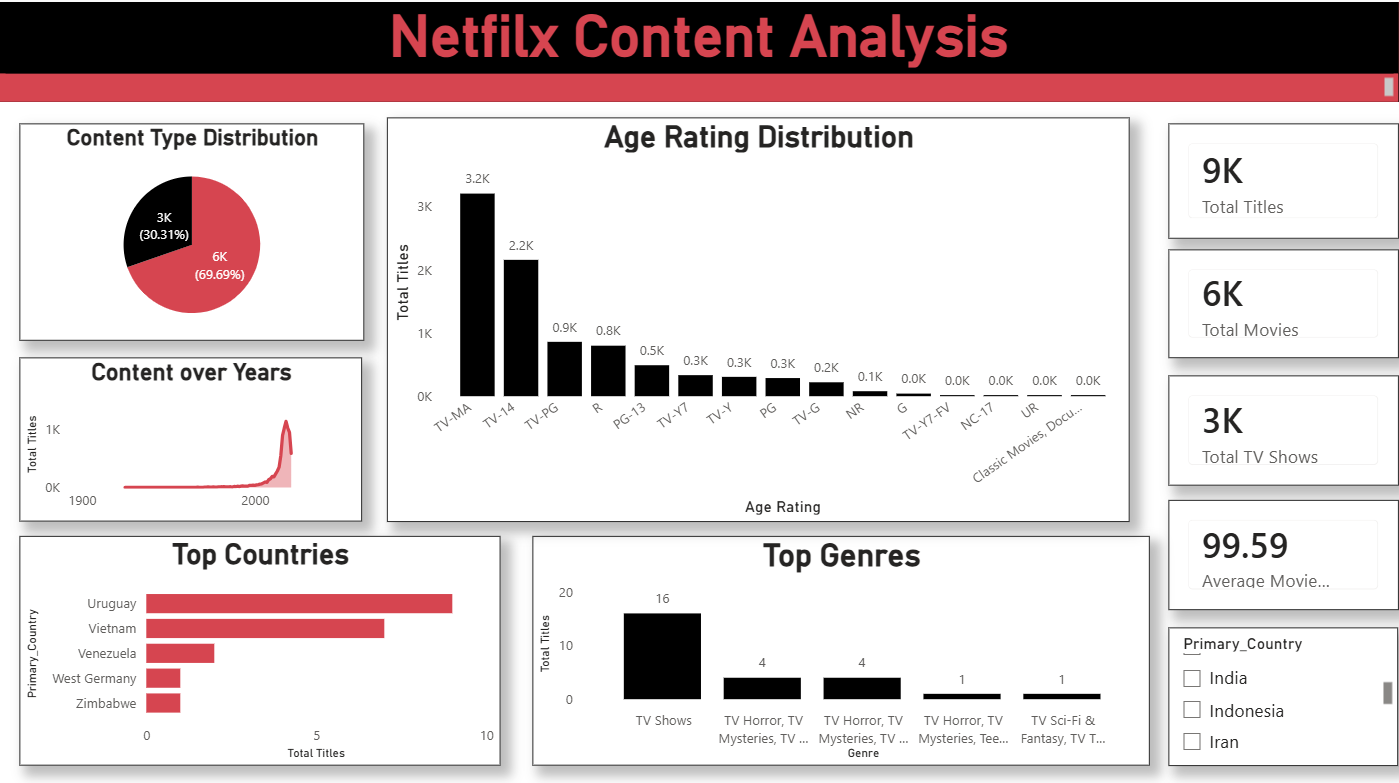

Layout of this report page (visuals, bound fields, positions):
{"tool":"powerbi","page":{"name":"Page 1","canvas":[1280,720],"ordinal":0},"visuals":[{"type":"cardVisual","title":"Total Titles","fields":{"Data":["netflix1.Total Titles"]},"box":[1068.6,111.7,210.9,105.5],"z":0},{"type":"cardVisual","title":"Total Movies","fields":{"Data":["netflix1.Total Movies"]},"box":[1068.6,226.4,210.9,99.3],"z":1000},{"type":"cardVisual","fields":{"Data":["netflix1.Total TV Shows"]},"box":[1068.6,341.2,210.9,100.8],"z":2000},{"type":"cardVisual","fields":{"Data":["netflix1.Average Movie Duration"]},"box":[1068.6,456,210.9,100.8],"z":3000},{"type":"pieChart","title":"Content Type Distribution","fields":{"Y":["netflix1.Total Titles"],"Category":["netflix1.Content Type"]},"box":[17.5,111,315.5,198.6],"z":4000},{"type":"lineChart","title":"Content over Years","fields":{"Y":["netflix1.Total Titles"],"Category":["netflix1.Release Year"]},"box":[17.5,325.2,313.5,149.9],"z":5000},{"type":"columnChart","title":"Top Genres","fields":{"Category":["netflix1.Genre"],"Y":["netflix1.Total Titles"]},"box":[486.8,488.8,564.7,210.3],"z":7000},{"type":"clusteredColumnChart","title":"Age Rating Distribution","fields":{"Category":["netflix1.Age Rating"],"Y":["netflix1.Total Titles"]},"box":[354.4,105.2,679.6,370],"z":8000},{"type":"slicer","fields":{"Values":["netflix1.Primary_Country"]},"box":[1069,572.5,210.3,126.6],"z":9000},{"type":"textbox","title":"Netfilx Content Analysis","box":[0,0,1279.4,91.5],"z":9001},{"type":"clusteredBarChart","title":"Top Countries","fields":{"Y":["netflix1.Total Titles"],"Category":["netflix1.Primary_Country"]},"box":[17.5,488.8,440.1,210.3],"z":9002}]}

Visuals, with their boxes in screenshot pixels (x1, y1, x2, y2), scaled from the page's 1280x720 canvas onto the 1399x783 screenshot:
"Total Titles" cardVisual: detection(1168, 121, 1398, 236)
"Total Movies" cardVisual: detection(1168, 246, 1398, 354)
cardVisual - netflix1.Total TV Shows: detection(1168, 371, 1398, 481)
cardVisual - netflix1.Average Movie Duration: detection(1168, 496, 1398, 606)
"Content Type Distribution" pieChart: detection(19, 121, 364, 337)
"Content over Years" lineChart: detection(19, 354, 362, 517)
"Top Genres" columnChart: detection(532, 532, 1149, 760)
"Age Rating Distribution" clusteredColumnChart: detection(387, 114, 1130, 517)
slicer - netflix1.Primary_Country: detection(1168, 623, 1398, 760)
"Netfilx Content Analysis" textbox: detection(0, 0, 1398, 100)
"Top Countries" clusteredBarChart: detection(19, 532, 500, 760)
